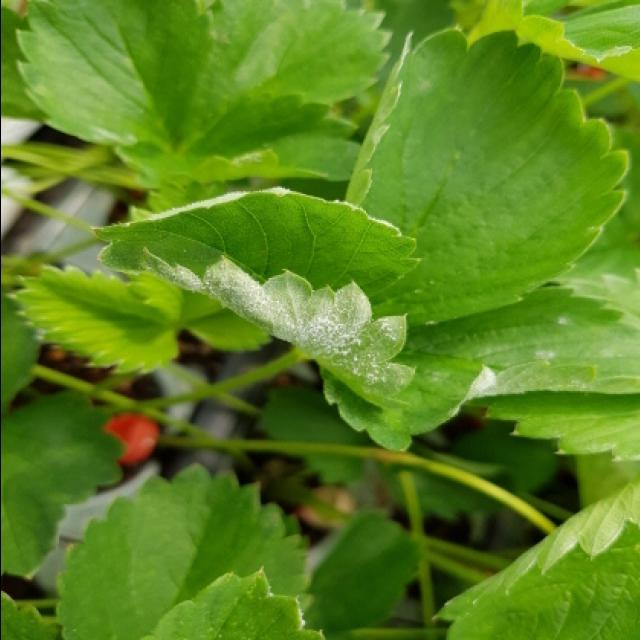Powdery Mildew Leaf: (91, 188, 423, 413), (314, 283, 640, 455)
